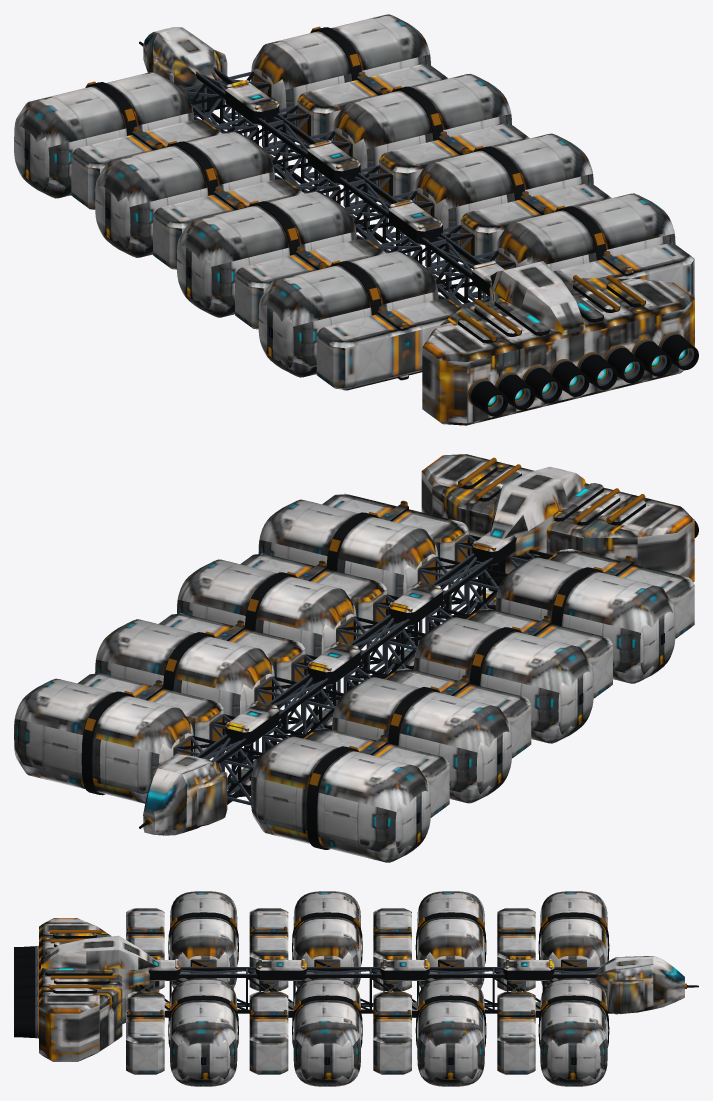
The model's file is bulk-freighter.obj.
The picture shows the model from 3 angles, top to bottom: view 1: azimuth 30°, elevation 25°; view 2: azimuth 150°, elevation 25°; view 3: azimuth 270°, elevation 25°; orthographic projection. The views are drawn at different scales.
Visible parts, largest first — view 1: drive_|_eight-engine_support, cargo.port.4_|_mineral_silo, cargo.port.3_|_mineral_silo, cargo.port.2_|_mineral_silo, cargo.port.1_|_mineral_silo, cargo.starboard.3_|_mineral_silo, cargo.starboard.2_|_mineral_silo, cargo.starboard.1_|_mineral_silo, cargo.starboard.4_|_mineral_silo, cargo.port.4_|_rectangular_cargo_cage, stern_|_central_reactor-service_fairing, cargo.port.1_|_rectangular_cargo_cage (+12 smaller); view 2: cargo.port.1_|_mineral_silo, cargo.starboard.1_|_mineral_silo, drive_|_eight-engine_support, cargo.port.3_|_mineral_silo, cargo.port.2_|_mineral_silo, cargo.port.4_|_mineral_silo, cargo.starboard.2_|_mineral_silo, cargo.starboard.4_|_mineral_silo, cargo.starboard.3_|_mineral_silo, stern_|_central_reactor-service_fairing, bridge_|_faceted_command_pod, cargo.port.2_|_rectangular_cargo_cage (+23 smaller); view 3: drive_|_eight-engine_support, cargo.starboard.2_|_mineral_silo, cargo.starboard.1_|_mineral_silo, cargo.starboard.3_|_mineral_silo, cargo.starboard.4_|_mineral_silo, cargo.port.4_|_mineral_silo, cargo.port.2_|_mineral_silo, cargo.port.3_|_mineral_silo, cargo.port.1_|_mineral_silo, stern_|_central_reactor-service_fairing, cargo.starboard.3_|_rectangular_cargo_cage, cargo.starboard.2_|_rectangular_cargo_cage (+27 smaller).
Part boxes in pixels (x1,y1,x2,y2): drive_|_eight-engine_support: (422,278,694,425); cargo.port.4_|_mineral_silo: (258,251,438,377); cargo.port.3_|_mineral_silo: (177,191,356,317); cargo.port.2_|_mineral_silo: (95,131,274,257); cargo.port.1_|_mineral_silo: (14,72,193,198); cargo.starboard.3_|_mineral_silo: (414,133,593,254); cargo.starboard.2_|_mineral_silo: (332,73,511,195); cargo.starboard.1_|_mineral_silo: (251,14,430,135); cargo.starboard.4_|_mineral_silo: (495,193,675,271); cargo.port.4_|_rectangular_cargo_cage: (316,299,460,389); stern_|_central_reactor-service_fairing: (487,261,586,335); cargo.port.1_|_rectangular_cargo_cage: (71,119,222,209); cargo.port.1_|_mineral_silo: (251,736,430,862); cargo.starboard.1_|_mineral_silo: (14,678,193,803); drive_|_eight-engine_support: (421,454,694,582); cargo.port.3_|_mineral_silo: (413,617,593,743); cargo.port.2_|_mineral_silo: (332,677,511,803); cargo.port.4_|_mineral_silo: (495,557,675,683); cargo.starboard.2_|_mineral_silo: (95,619,275,744); cargo.starboard.4_|_mineral_silo: (258,499,438,624); cargo.starboard.3_|_mineral_silo: (177,559,356,684); stern_|_central_reactor-service_fairing: (487,466,585,591); bridge_|_faceted_command_pod: (143,753,221,835); cargo.port.2_|_rectangular_cargo_cage: (384,668,531,758); drive_|_eight-engine_support: (39,918,122,1061); cargo.starboard.2_|_mineral_silo: (417,978,484,1086); cargo.starboard.1_|_mineral_silo: (540,978,607,1086); cargo.starboard.3_|_mineral_silo: (293,978,360,1086); cargo.starboard.4_|_mineral_silo: (170,978,237,1086); cargo.port.4_|_mineral_silo: (170,891,237,988); cargo.port.2_|_mineral_silo: (417,891,484,988); cargo.port.3_|_mineral_silo: (293,891,360,988); cargo.port.1_|_mineral_silo: (540,891,607,987); stern_|_central_reactor-service_fairing: (41,935,159,1023); cargo.starboard.3_|_rectangular_cargo_cage: (249,991,288,1074); cargo.starboard.2_|_rectangular_cargo_cage: (373,991,411,1074).
Bounding box in the file's own units: 9.81 × 2.49 × 19.51.
Materials: 7 (2 with a texture image).
